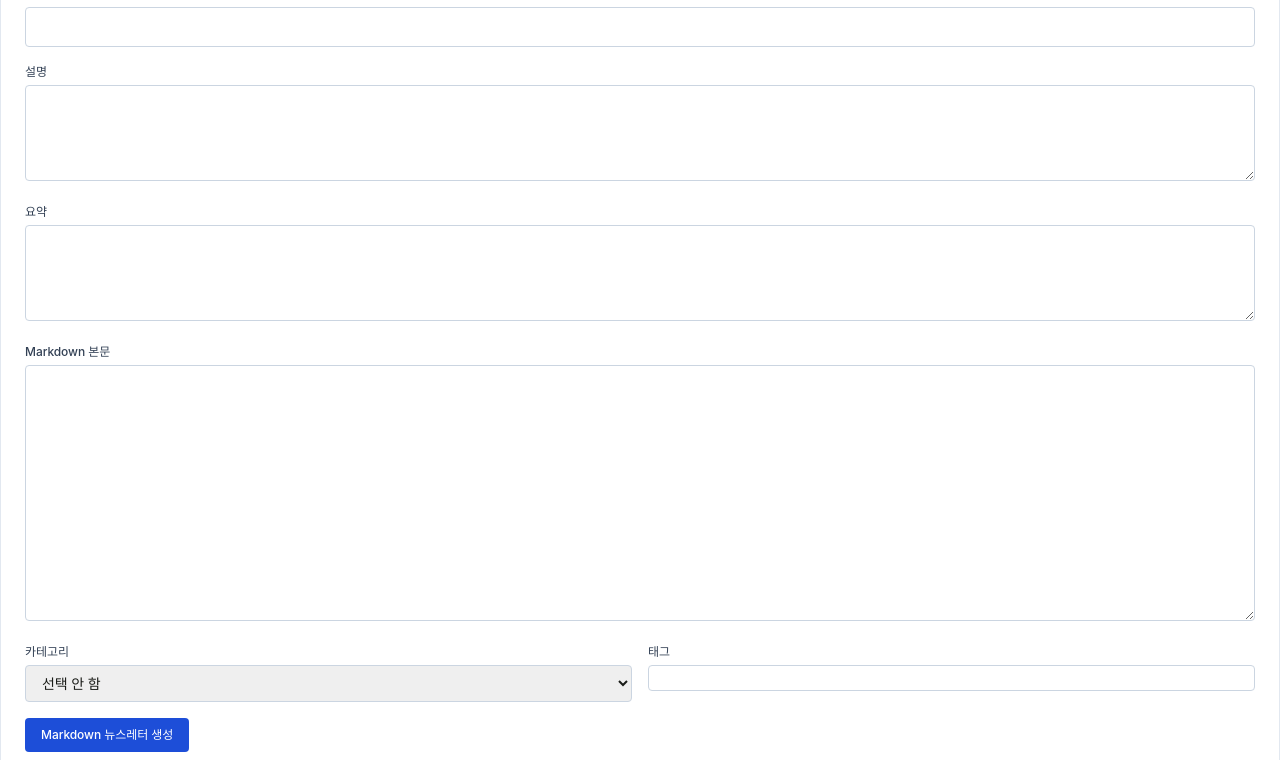
submits markdown form
In the field labelled "제목": (640, 27) left=25, top=7, right=1255, bottom=47, type "새 Markdown"
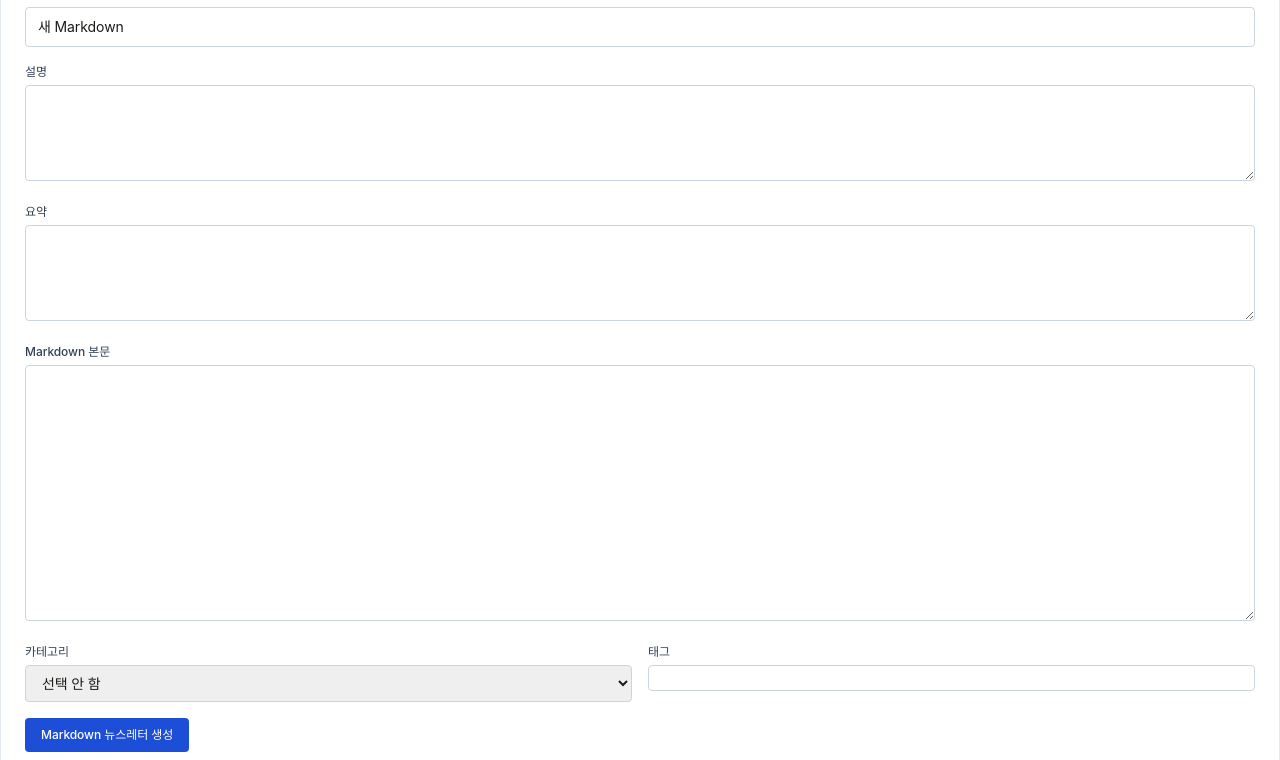
Click the button "Markdown 뉴스레터 생성": (107, 735) left=25, top=718, right=189, bottom=752
(page scrolled)
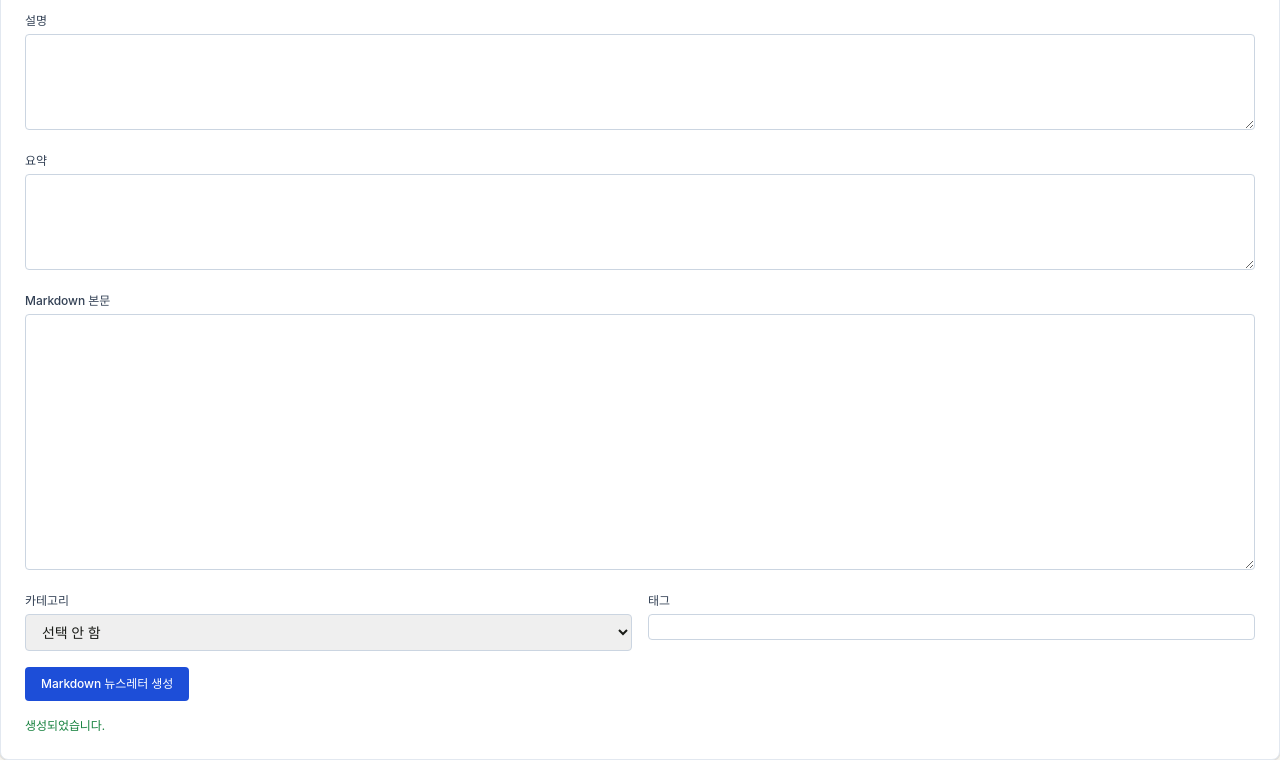
Expected: the text "생성되었습니다." is shown, left=25, top=718, right=105, bottom=733
